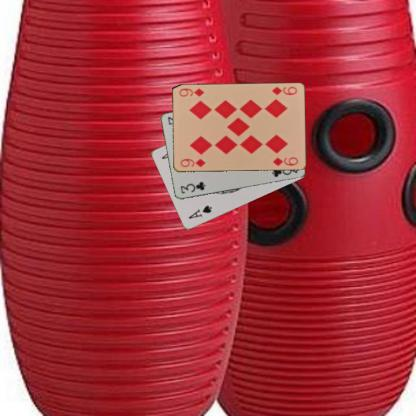3c: (178, 179, 206, 195)
9d: (269, 84, 298, 96), (178, 156, 206, 168)
As: (186, 203, 213, 220)
